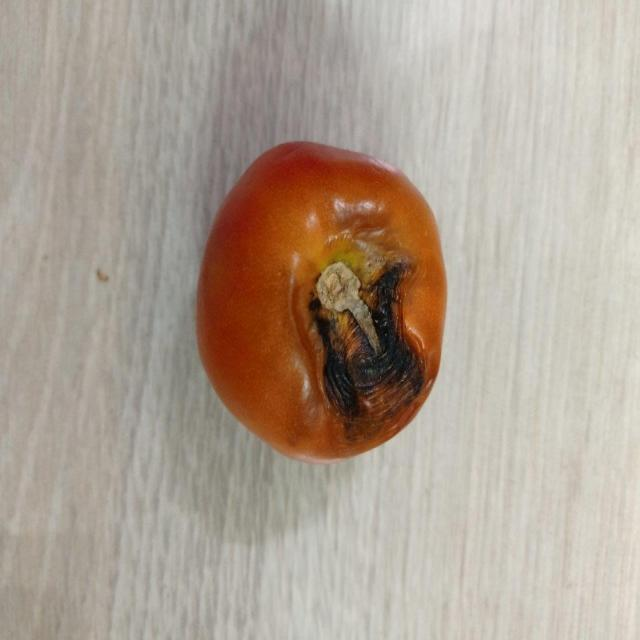Rotten: (195, 139, 446, 466)
